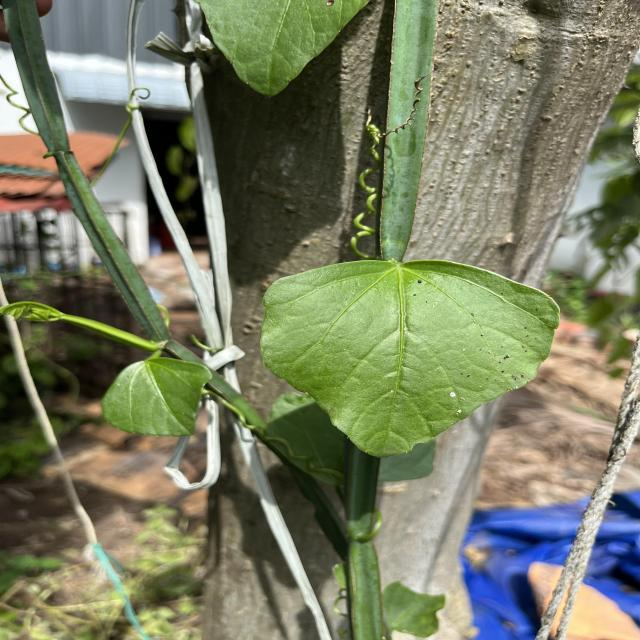Cissus quadrangularis: (258, 256, 564, 460)
